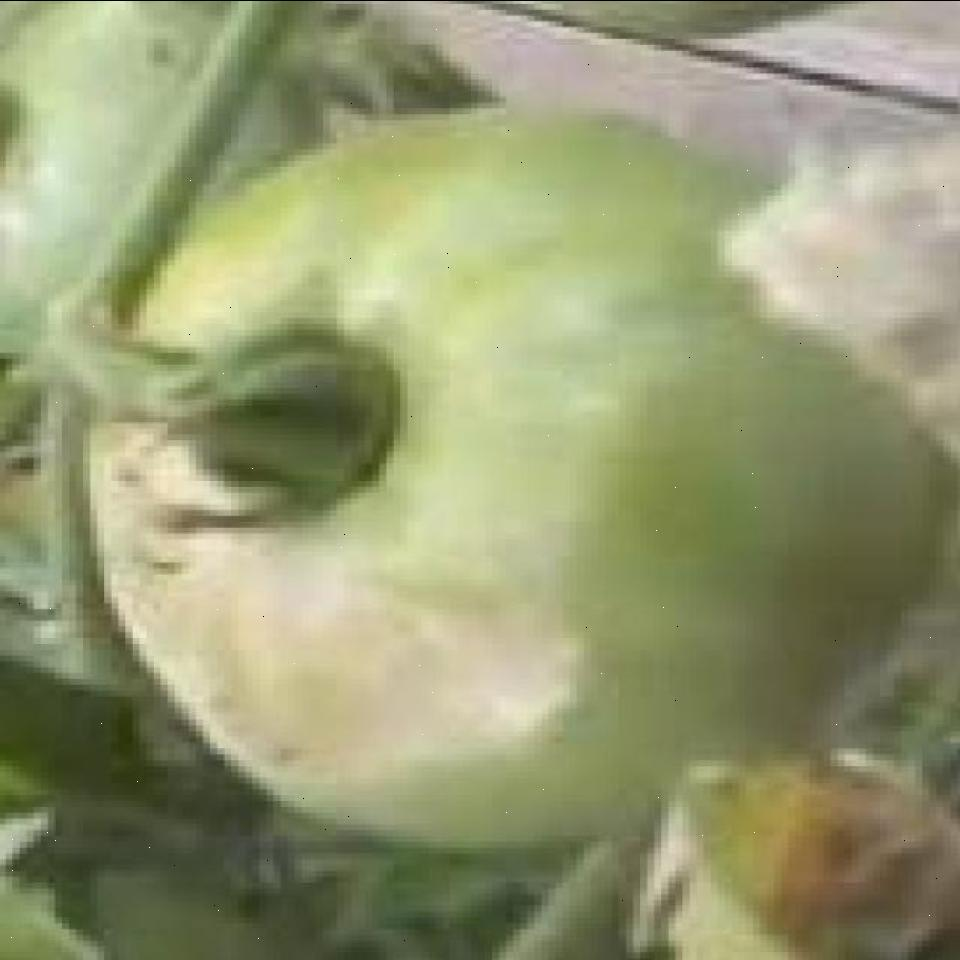Sunscald: (115, 433, 637, 794)
